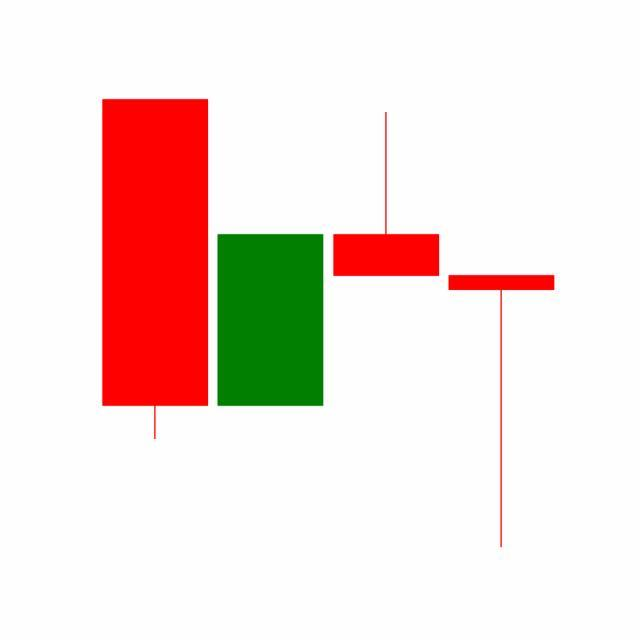Hammer: (444, 272, 560, 551)
